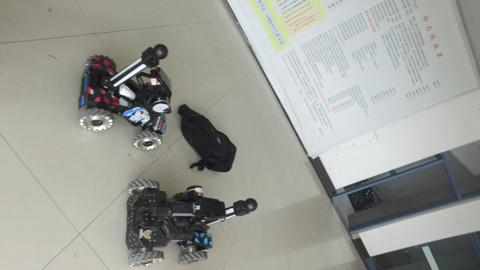bag: (180, 100, 241, 175)
chariot: (72, 31, 176, 152), (121, 175, 263, 262)
